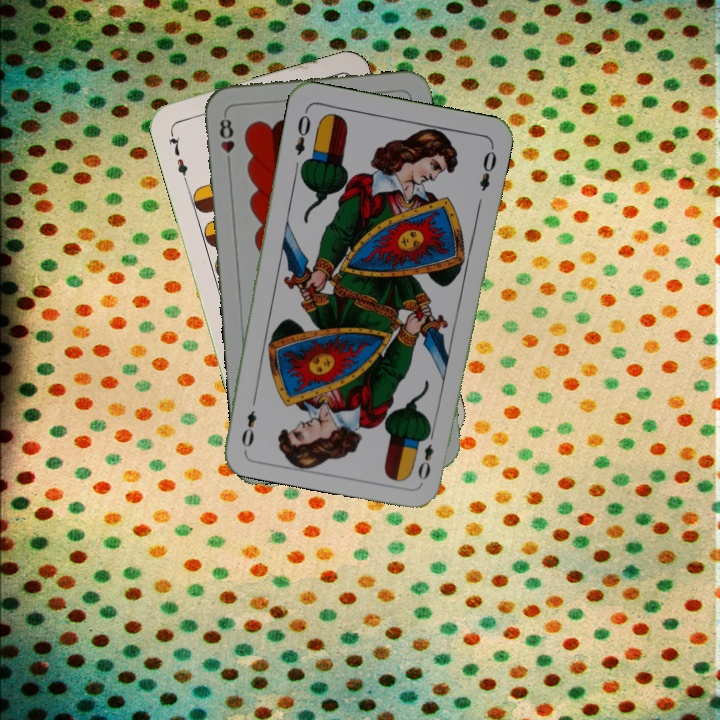E7: (164, 127, 191, 185)
EO: (414, 425, 437, 482), (290, 106, 314, 158)
H8: (215, 110, 237, 169)
